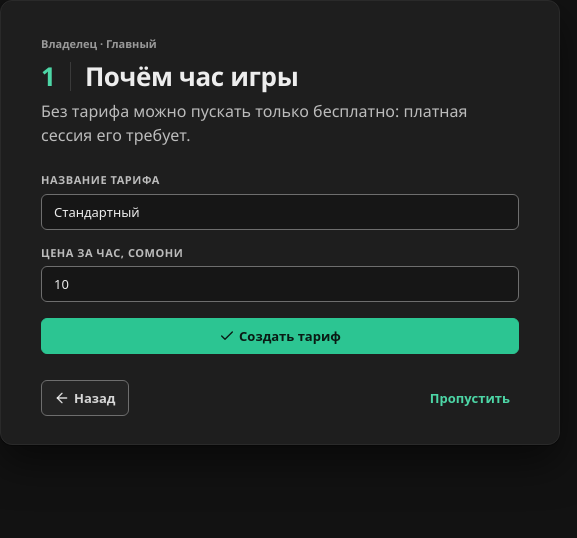
Scenario: TariffScreen · главное действие › после создания главное — «Дальше»
Click the button "Создать тариф" at (280, 336), box [41,318,519,354]
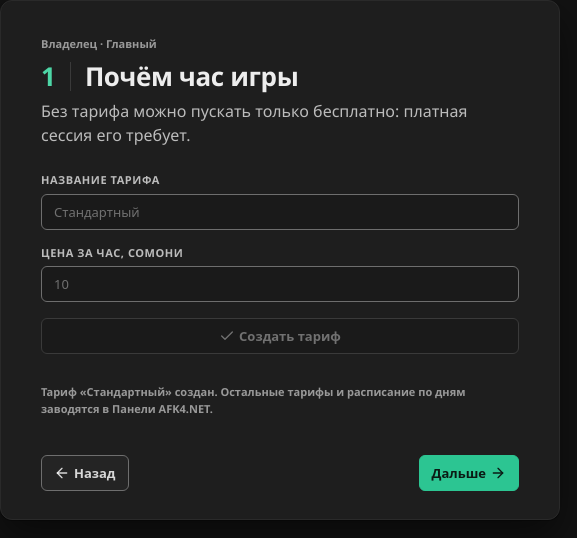
Expected: the text "Тариф «Стандартный» создан" is shown, [41,385,466,417]
